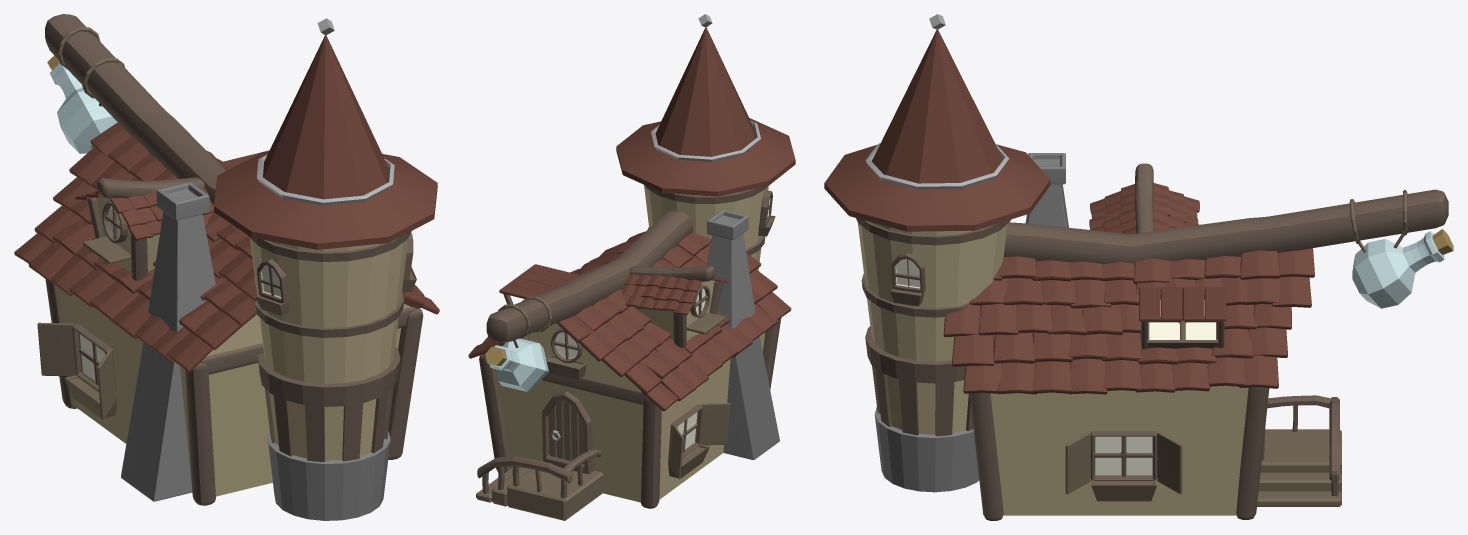
File: RayenHuis.fbx
The picture shows the model from 3 angles, left to right: view 1: azimuth 30°, elevation 25°; view 2: azimuth 150°, elevation 25°; view 3: azimuth 270°, elevation 25°; orthographic projection. The views are drawn at different scales.
Visible parts, largest first — view 1: polySurface4069; view 2: polySurface4069; view 3: polySurface4069.
Boxes of the visible parts, left/top/right/bottom form: polySurface4069: left=14, top=14, right=439, bottom=520; polySurface4069: left=468, top=14, right=795, bottom=520; polySurface4069: left=824, top=14, right=1453, bottom=520.
Bounding box in the file's own units: 4.08 × 7.05 × 8.7.
